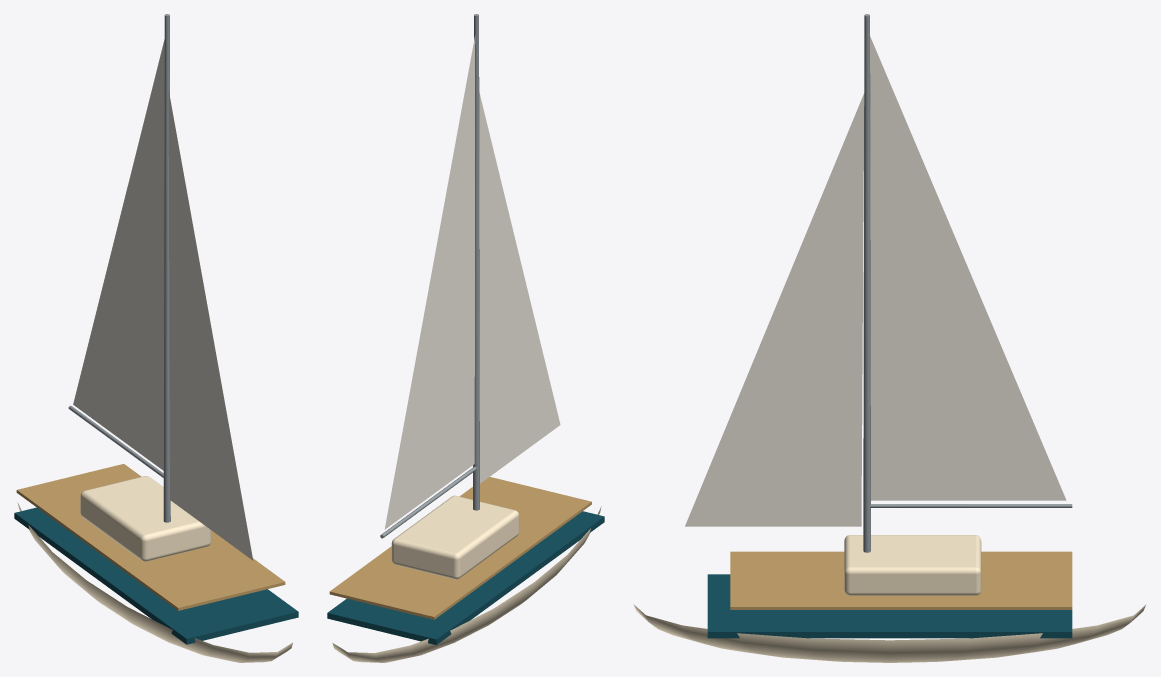
The model's file is sailboat.glb.
3 views of the same model, side by side, from view 1: azimuth 30°, elevation 25°; view 2: azimuth 150°, elevation 25°; view 3: azimuth 270°, elevation 25° (orthographic). The views are drawn at different scales.
Visible parts, largest first — view 1: boat sail, boat deck, boat hull, boat band, boat spar; view 2: boat sail, boat deck, boat hull, boat band, boat spar; view 3: boat sail, boat hull, boat deck, boat band, boat spar.
Boxes of the visible parts, x1,y1,x2,y2 form: boat sail: [73, 39, 253, 560]; boat deck: [16, 464, 285, 610]; boat hull: [17, 476, 292, 662]; boat band: [14, 507, 298, 644]; boat spar: [68, 14, 170, 522]; boat sail: [384, 35, 560, 529]; boat deck: [329, 477, 591, 619]; boat hull: [332, 495, 601, 662]; boat band: [327, 511, 604, 644]; boat spar: [380, 14, 479, 538]; boat sail: [685, 36, 1066, 526]; boat hull: [633, 535, 1146, 662]; boat deck: [730, 551, 1072, 609]; boat band: [707, 574, 1072, 638]; boat spar: [863, 14, 1072, 552].
Bounding box in the file's own units: 3 × 12.3 × 9.
